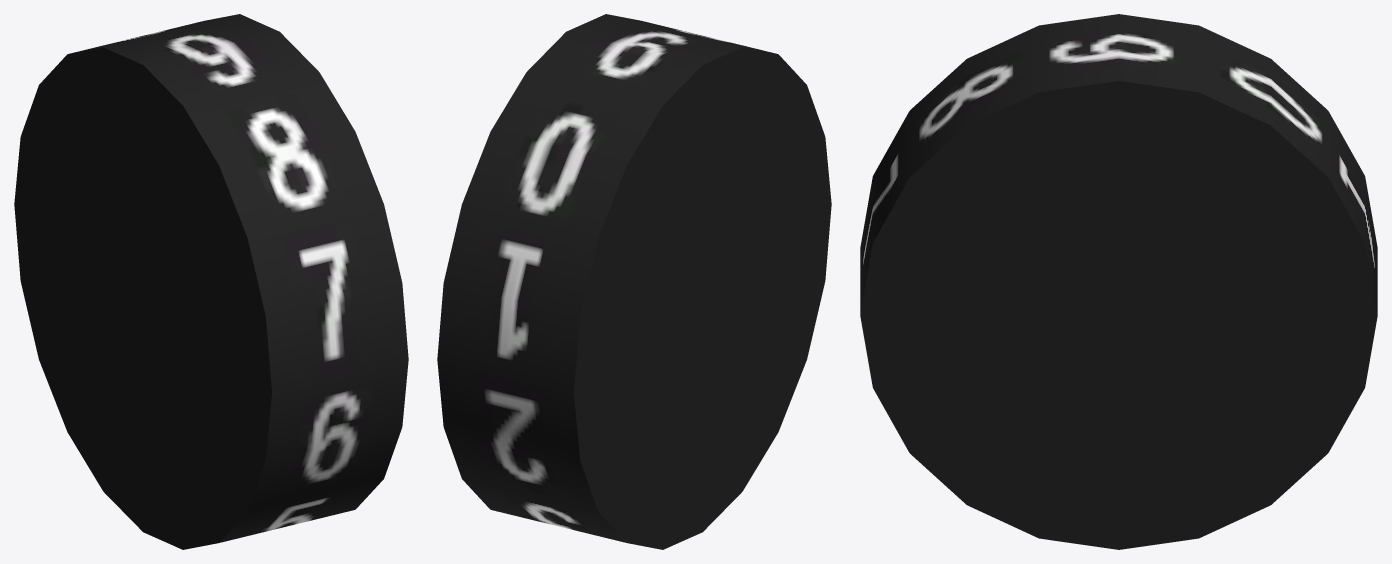
Rendered from nt_2020_sign_numbers_small_LOD0.obj.
3 renders of one model, left to right at view 1: azimuth 30°, elevation 25°; view 2: azimuth 150°, elevation 25°; view 3: azimuth 270°, elevation 25°, orthographic.
Parts seen in each view (by area): view 1: mtl_nt_2020_sign_numbers; view 2: mtl_nt_2020_sign_numbers; view 3: mtl_nt_2020_sign_numbers.
Part boxes in pixels (box(x1,y1,x2,y2)): mtl_nt_2020_sign_numbers: box(14, 14, 408, 549); mtl_nt_2020_sign_numbers: box(437, 14, 831, 549); mtl_nt_2020_sign_numbers: box(860, 14, 1377, 549).
Size of the model in its own units: 14.7 by 48.05 by 48.05.
